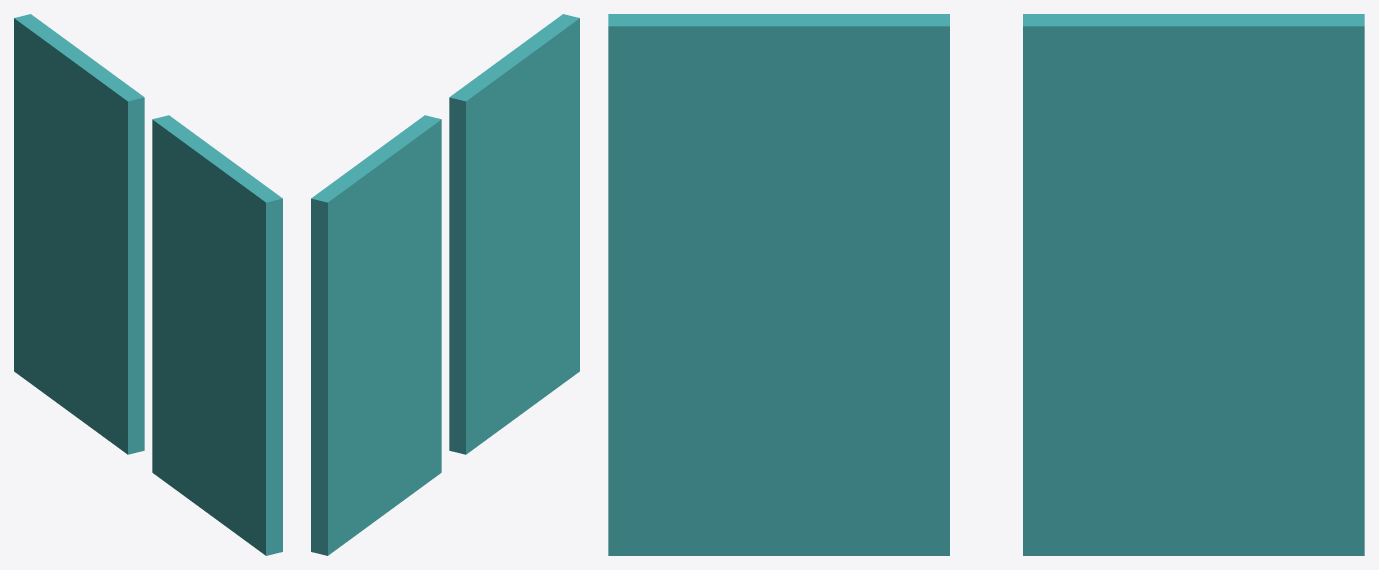
Rendered from Environment_Attachment_Window_C.fbx.
3 views of the same model, side by side, from view 1: azimuth 30°, elevation 25°; view 2: azimuth 150°, elevation 25°; view 3: azimuth 270°, elevation 25° (orthographic). The views are drawn at different scales.
Parts seen in each view (by area): view 1: Environment_Attachment_Window_C; view 2: Environment_Attachment_Window_C; view 3: Environment_Attachment_Window_C.
Part boxes in pixels (box(x1,y1,x2,y2)): Environment_Attachment_Window_C: box(14, 14, 282, 555); Environment_Attachment_Window_C: box(311, 14, 579, 555); Environment_Attachment_Window_C: box(608, 14, 1364, 555).
Size of the model in its own units: 0.0394 by 0.7901 by 1.02.
